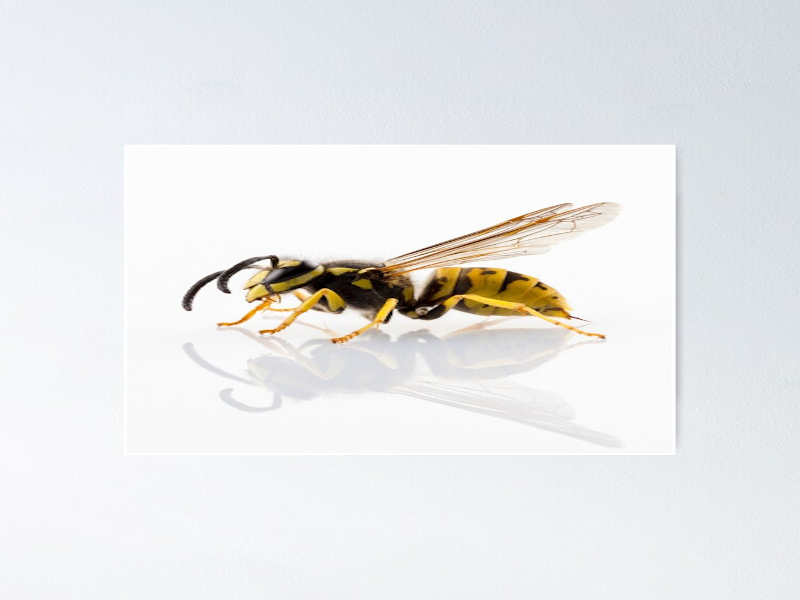chax: (174, 186, 635, 354)
